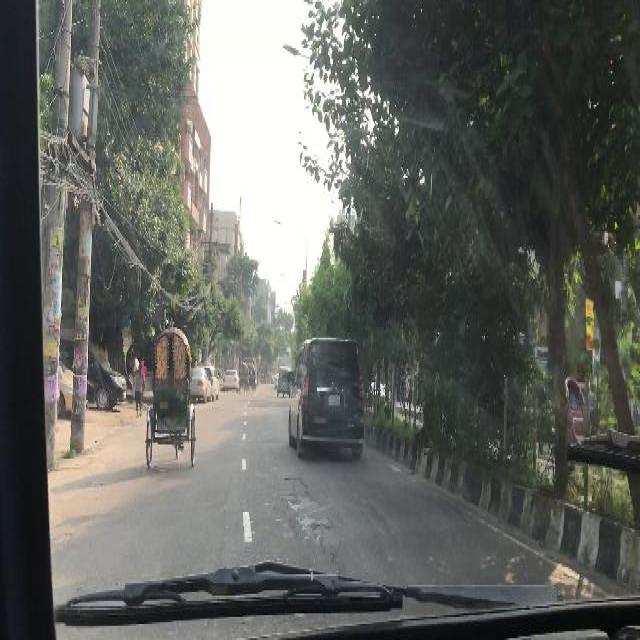car: (59, 339, 128, 422), (190, 364, 210, 400), (205, 362, 219, 394), (224, 367, 236, 387)
minivan: (288, 335, 364, 458)
rickshaw: (147, 328, 196, 465), (564, 376, 592, 445), (238, 364, 250, 390), (248, 366, 256, 391)
three wheelers -CNG-: (277, 366, 291, 395)
